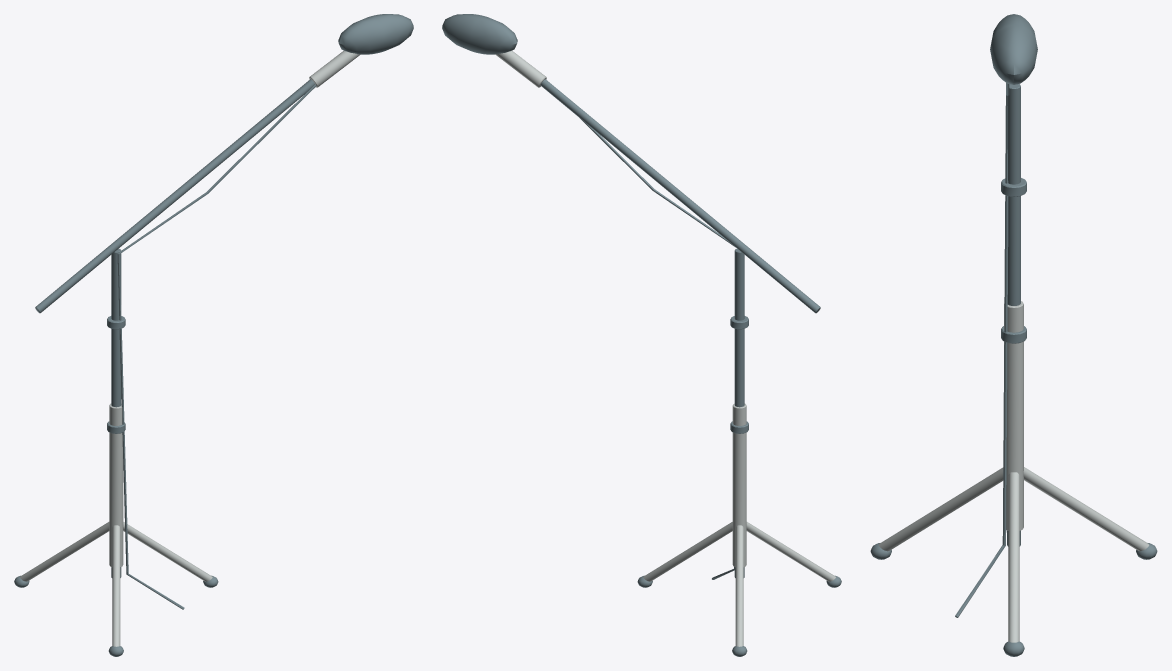
File: boom-mic.glb
The picture shows the model from 3 angles, left to right: view 1: azimuth 30°, elevation 25°; view 2: azimuth 150°, elevation 25°; view 3: azimuth 270°, elevation 25°; orthographic projection. The views are drawn at different scales.
Parts seen in each view (by area): view 1: boom_pole, foam_windscreen, lower_stand, audio_cable, telescoping_stand, tripod_leg_1, tripod_leg_2, tripod_leg_0, shotgun_body; view 2: boom_pole, foam_windscreen, lower_stand, telescoping_stand, tripod_leg_2, tripod_leg_1, tripod_leg_0, shotgun_body, audio_cable; view 3: lower_stand, telescoping_stand, foam_windscreen, tripod_leg_0, audio_cable, tripod_leg_2, tripod_leg_1.
Part boxes in pixels (<box>): boom_pole: <box>35,79,314,313</box>; foam_windscreen: <box>338,14,413,54</box>; lower_stand: <box>109,403,123,566</box>; audio_cable: <box>117,84,316,609</box>; telescoping_stand: <box>111,248,121,577</box>; tripod_leg_1: <box>112,525,120,646</box>; tripod_leg_2: <box>20,522,109,581</box>; tripod_leg_0: <box>123,522,212,581</box>; shotgun_body: <box>309,50,360,87</box>; boom_pole: <box>540,79,820,313</box>; foam_windscreen: <box>442,14,517,54</box>; lower_stand: <box>732,403,746,566</box>; telescoping_stand: <box>734,248,744,577</box>; tripod_leg_2: <box>735,525,743,646</box>; tripod_leg_1: <box>746,522,835,581</box>; tripod_leg_0: <box>643,522,732,581</box>; shotgun_body: <box>495,50,546,87</box>; audio_cable: <box>580,118,735,579</box>; lower_stand: <box>1004,301,1023,530</box>; telescoping_stand: <box>1007,84,1020,546</box>; foam_windscreen: <box>990,14,1037,84</box>; tripod_leg_0: <box>1008,472,1019,642</box>; audio_cable: <box>955,83,1009,617</box>; tripod_leg_2: <box>1023,467,1149,551</box>; tripod_leg_1: <box>878,467,1003,551</box>.
Size of the model in its own units: 1.92 by 2.57 by 0.8994.
